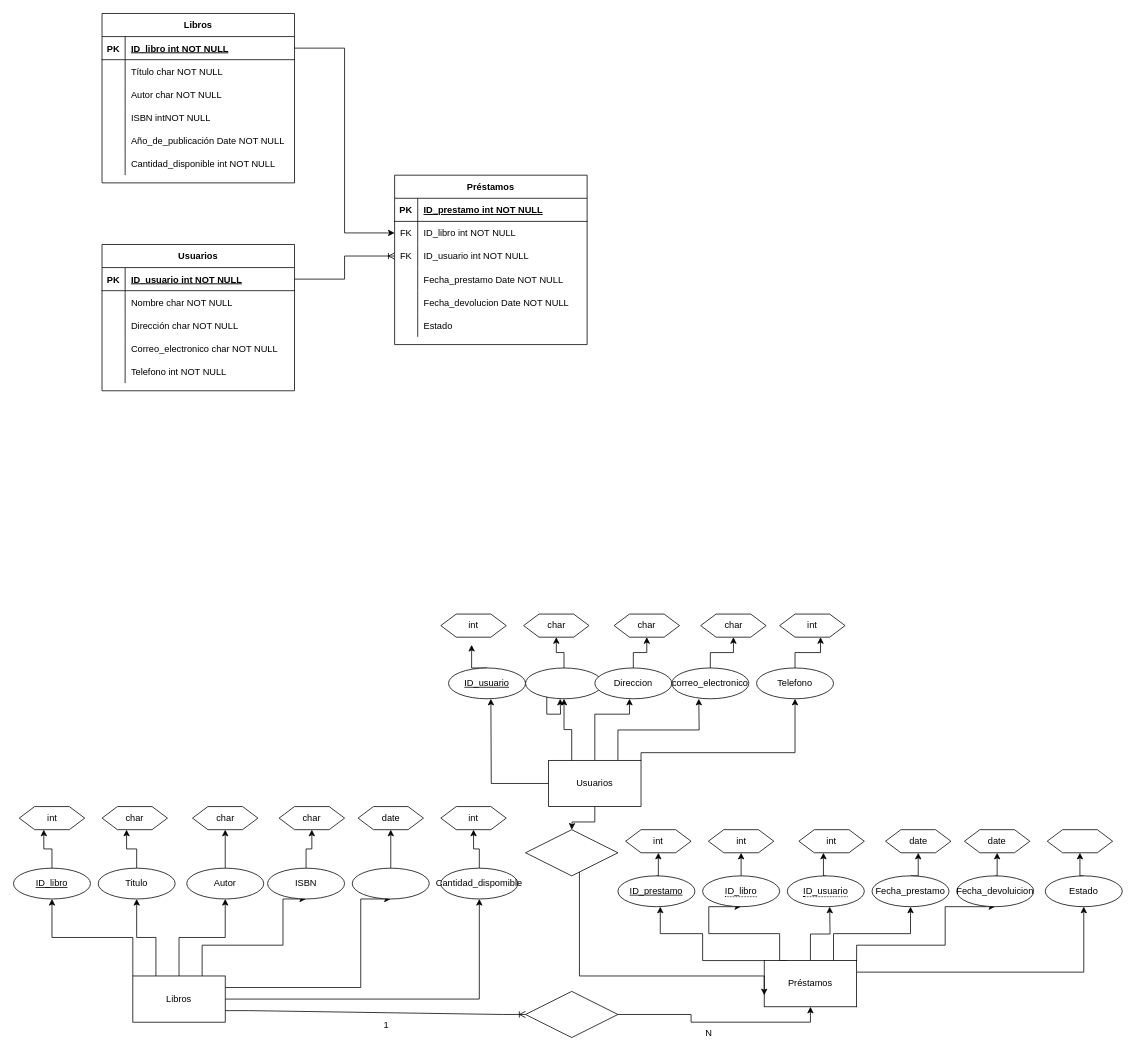
This 1136x1061 diagram has some shape labels left out. The centre of each missing label's shape, as x and y in pixels:
"(categorico)" goes at [1079,841].
"Año_publicacion" goes at [390,883].
"Contiene" goes at [571,1014].
"Nombre" goes at [564,683].
"Pide" goes at [571,852].
